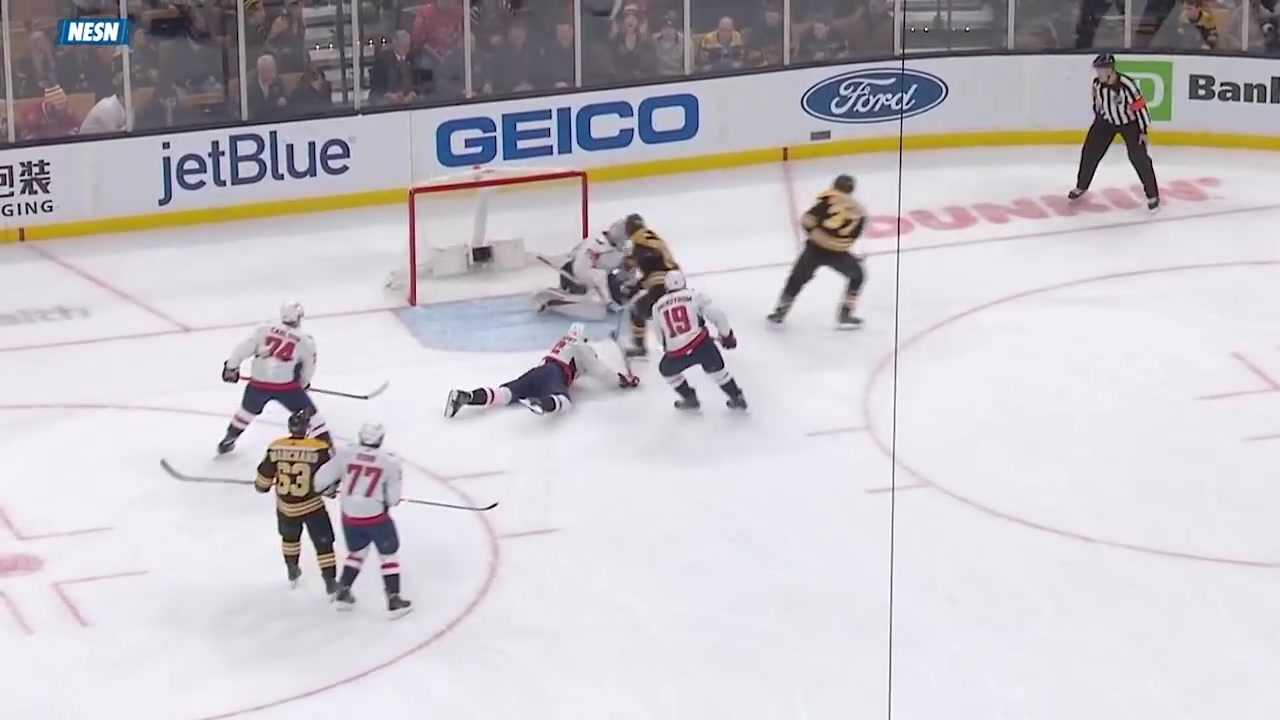geico: (436, 90, 722, 177)
